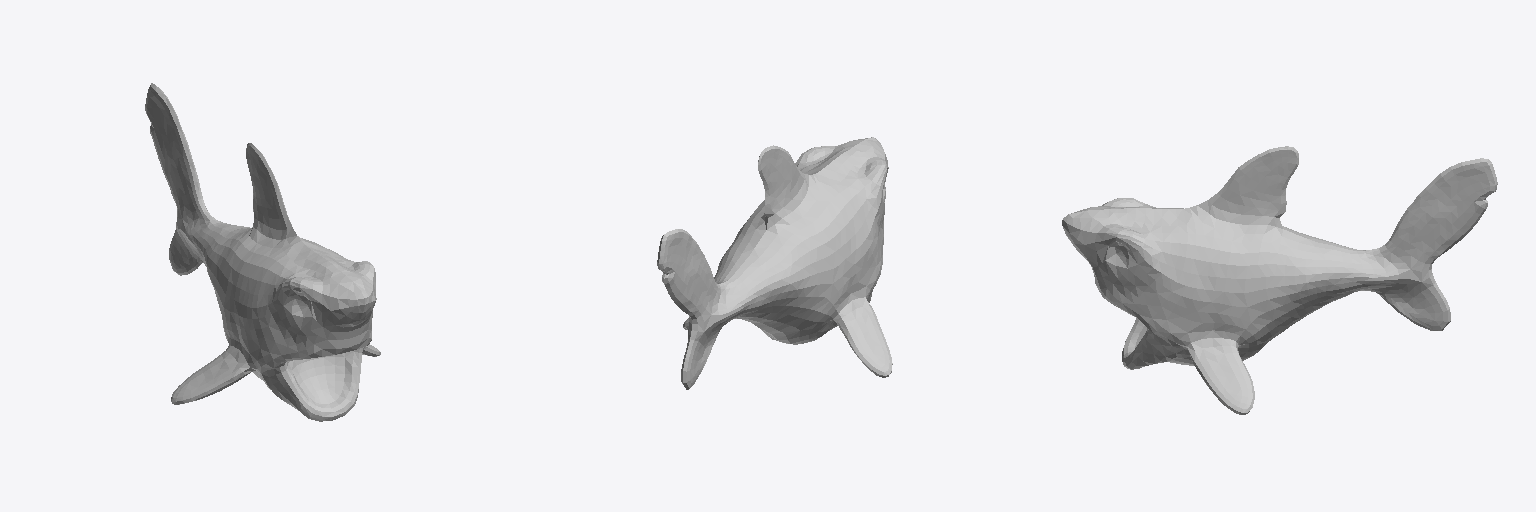
File: SharkToon.obj
3 views of the same model, side by side, from view 1: azimuth 30°, elevation 25°; view 2: azimuth 150°, elevation 25°; view 3: azimuth 270°, elevation 25° (orthographic).
Parts seen in each view (by area): view 1: Group15522; view 2: Group15522; view 3: Group15522.
Boxes of the visible parts, <box> form: Group15522: <box>145,83,380,421</box>; Group15522: <box>657,137,892,389</box>; Group15522: <box>1062,146,1497,414</box>.
Bounding box in the file's own units: 3.49 × 3.55 × 6.38.